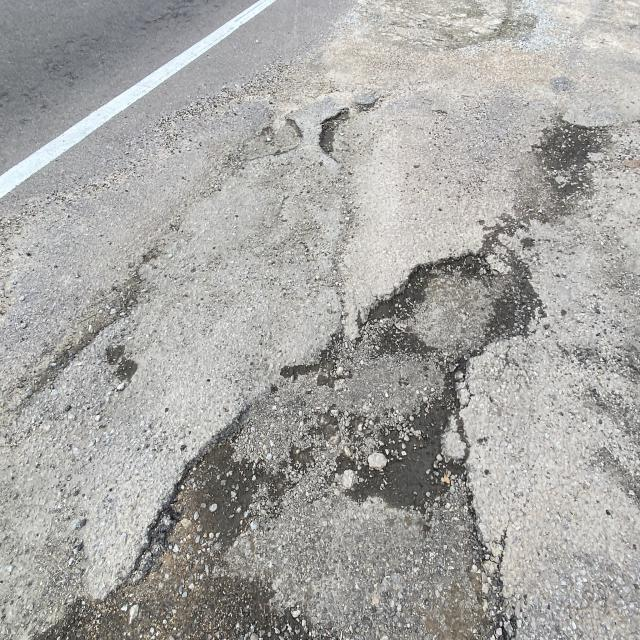pothole: (350, 242, 523, 385), (300, 78, 380, 214)
